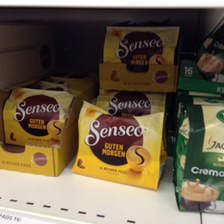coffee: (73, 100, 167, 190), (172, 100, 224, 214), (3, 86, 73, 146), (103, 24, 180, 74)
